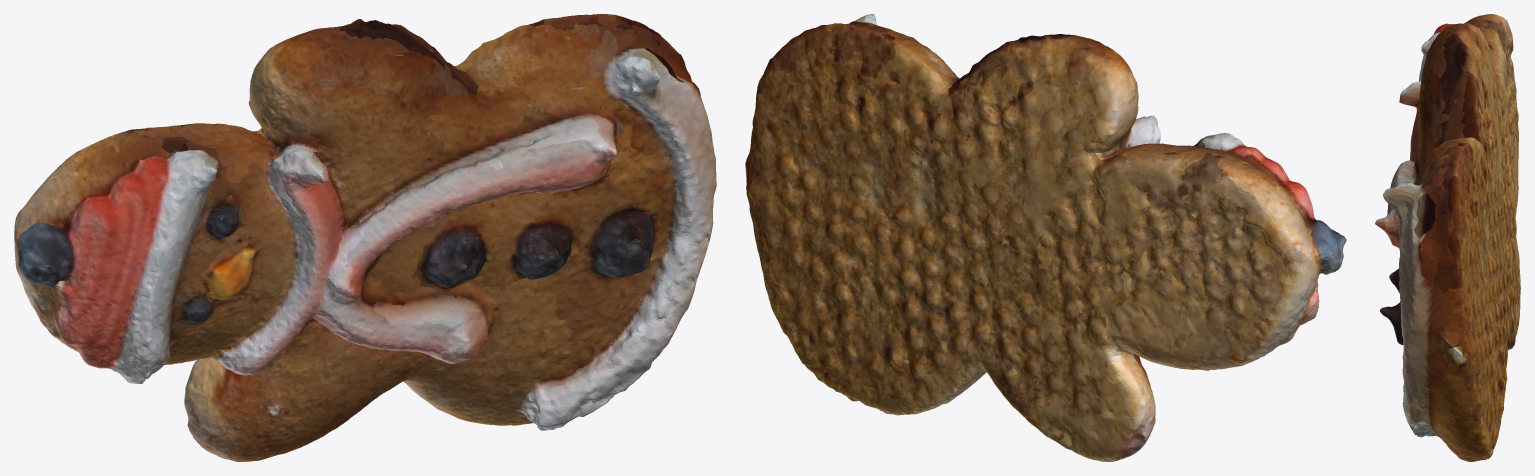
File: dish_model.glb
3 views of the same model, side by side, from view 1: azimuth 30°, elevation 25°; view 2: azimuth 150°, elevation 25°; view 3: azimuth 270°, elevation 25° (orthographic). The views are drawn at different scales.
Parts seen in each view (by area): view 1: model_textured; view 2: model_textured; view 3: model_textured.
Boxes of the visible parts, x1=… form: model_textured: x1=14, y1=14, x2=716, y2=461; model_textured: x1=745, y1=14, x2=1346, y2=461; model_textured: x1=1375, y1=14, x2=1520, y2=461.
Bounding box in the file's own units: 2.63 × 1.68 × 0.6495.
1 material, 1 textured.
